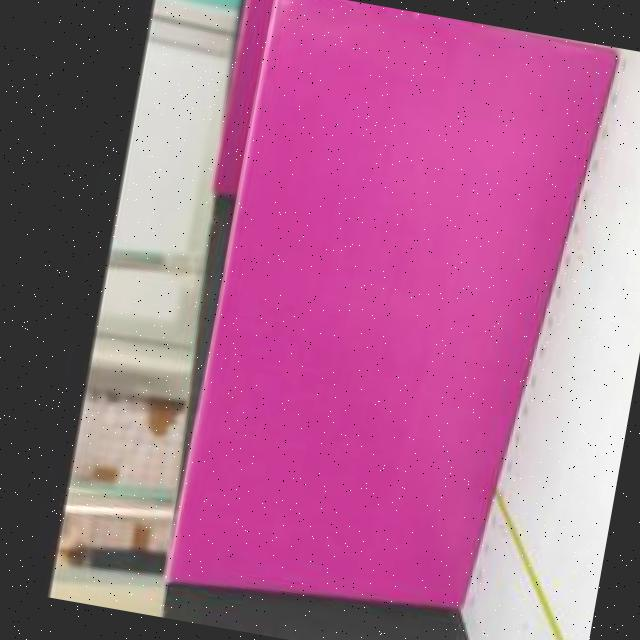xparking: (168, 0, 613, 622)
